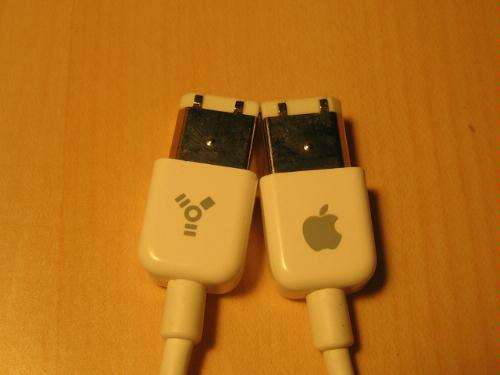Apple: (293, 198, 356, 253)
